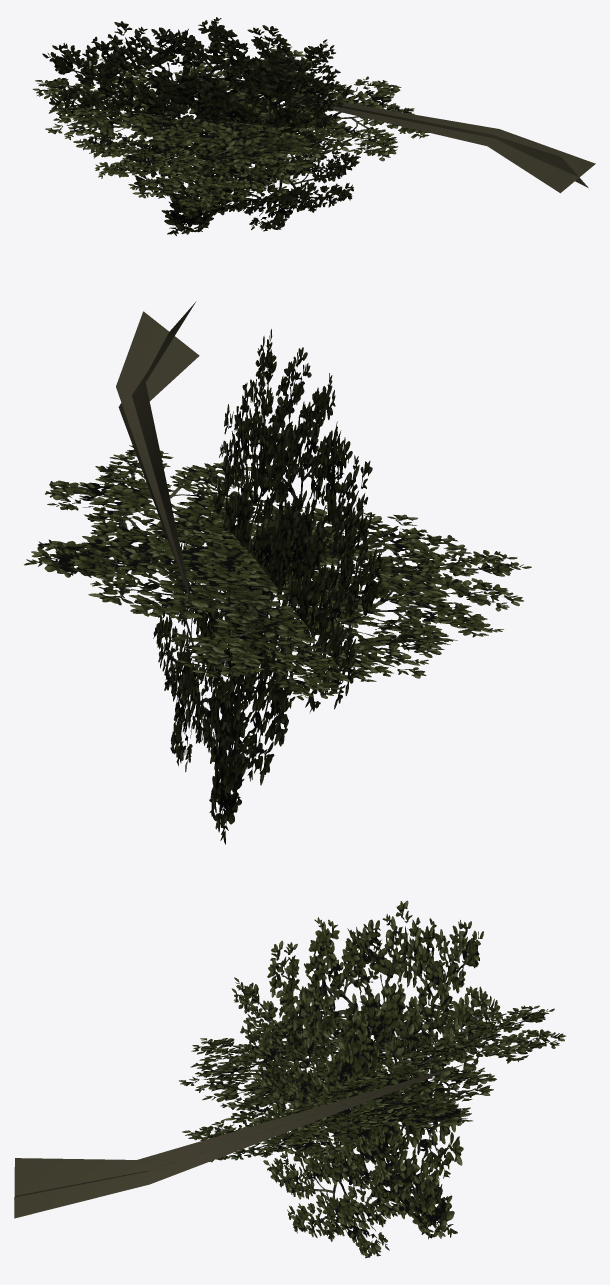
The model's file is Tree_02_h_LOD_02.fbx.
3 renders of one model, top to bottom at view 1: azimuth 30°, elevation 25°; view 2: azimuth 150°, elevation 25°; view 3: azimuth 270°, elevation 25°, orthographic. The views are drawn at different scales.
Parts seen in each view (by area): view 1: MEP_Leafs_02_h_LOD_02; view 2: MEP_Leafs_02_h_LOD_02; view 3: MEP_Leafs_02_h_LOD_02.
Part boxes in pixels (bbox=[...]): MEP_Leafs_02_h_LOD_02: bbox=[32, 17, 595, 235]; MEP_Leafs_02_h_LOD_02: bbox=[24, 301, 531, 844]; MEP_Leafs_02_h_LOD_02: bbox=[14, 900, 565, 1258].
Size of the model in its own units: 9.9 by 7.27 by 11.33.
